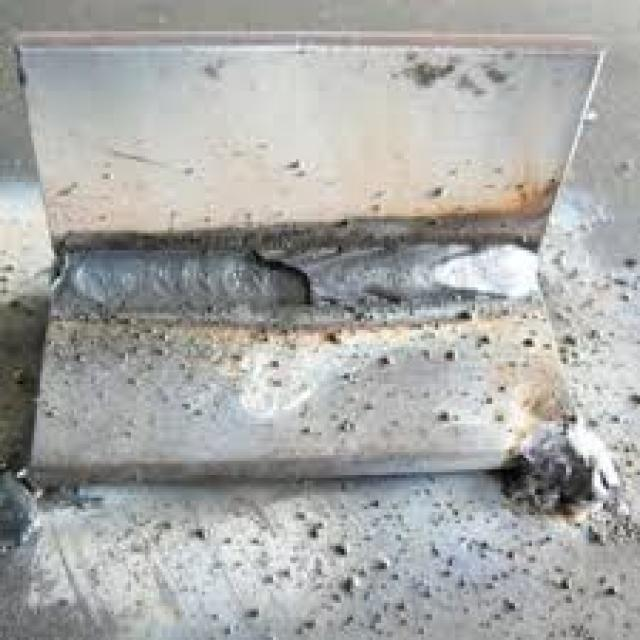Defect: (228, 244, 316, 310)
